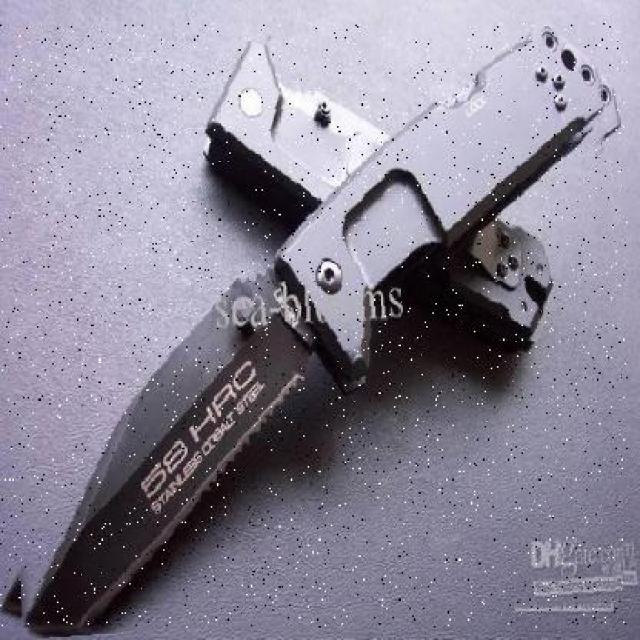knife: (0, 23, 628, 628)
